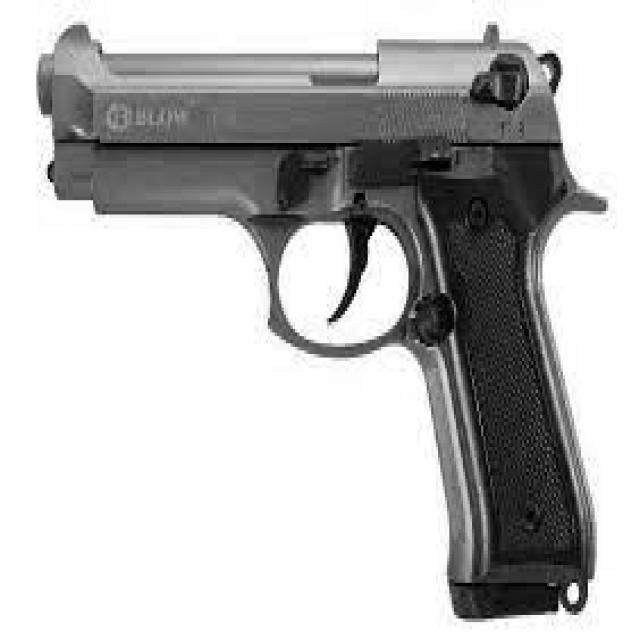gun: (43, 26, 605, 620)
